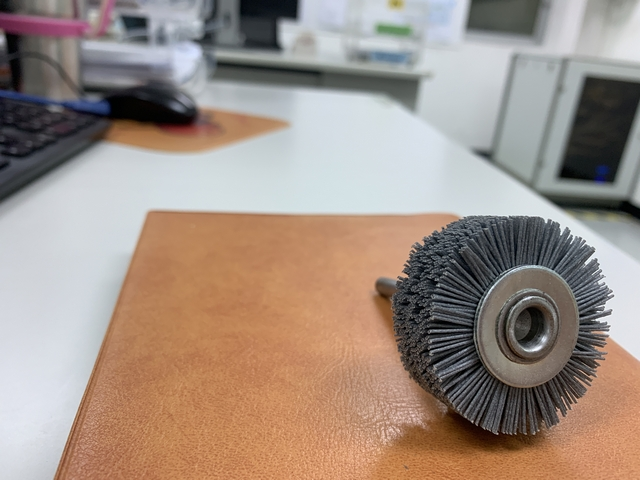Wheel Brush: (310, 215, 603, 395), (369, 216, 600, 441)
